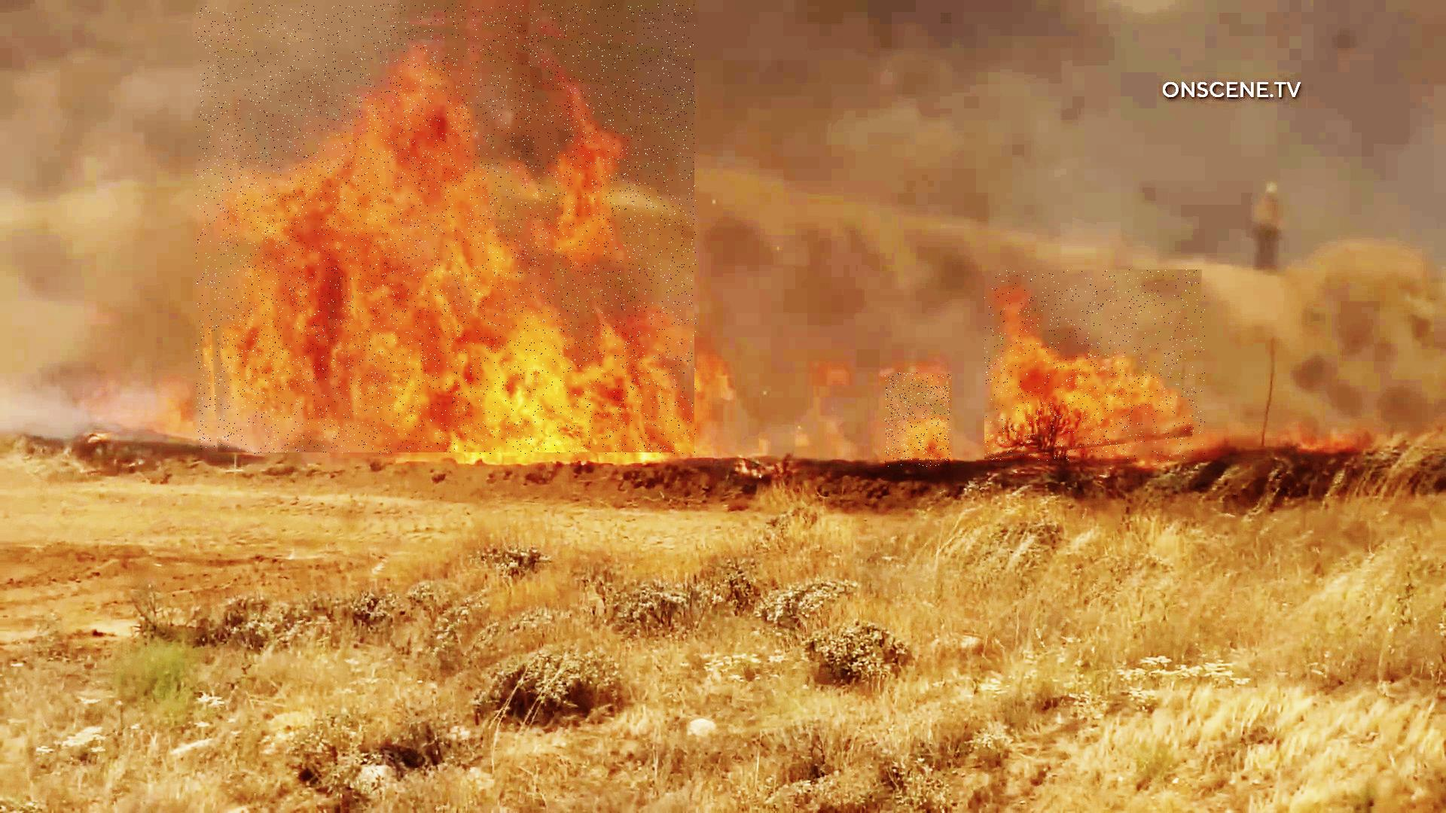fire: (196, 4, 696, 455), (985, 270, 1206, 461), (885, 373, 951, 468)
